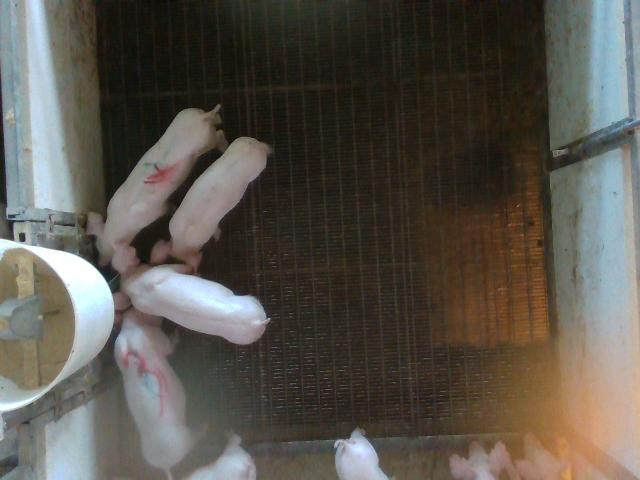pig-3: (115, 308, 198, 478)
pig-4: (88, 105, 224, 277)
